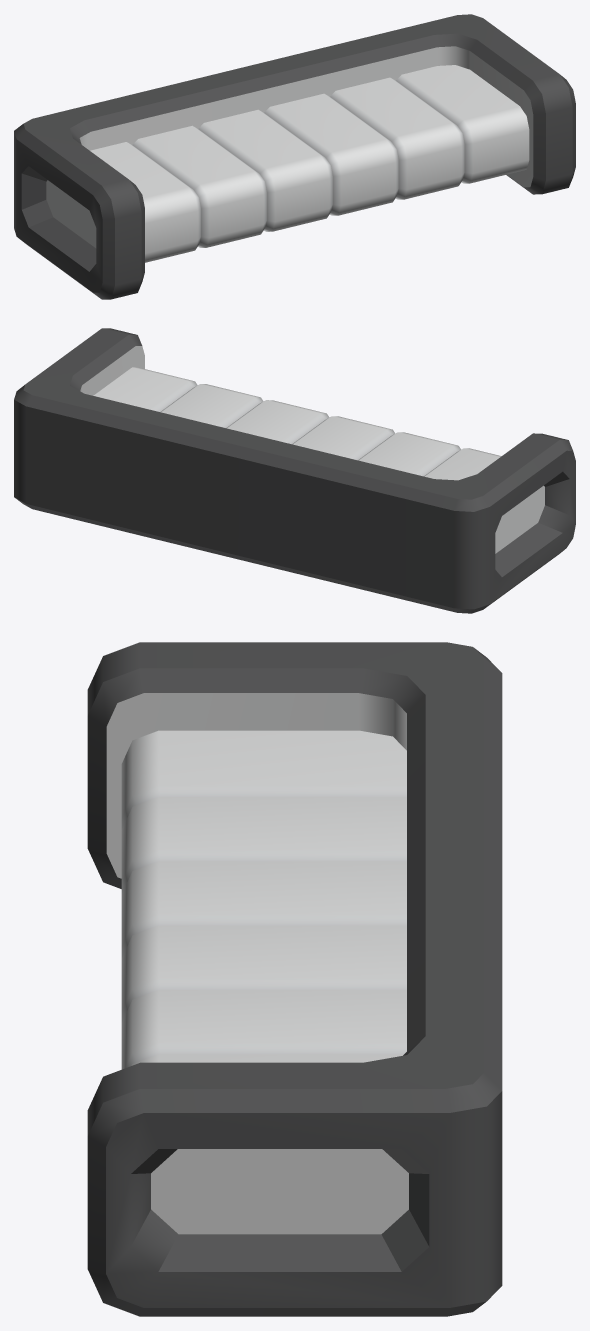
The model's file is Sofa_007.fbx.
The picture shows the model from 3 angles, top to bottom: view 1: azimuth 30°, elevation 25°; view 2: azimuth 150°, elevation 25°; view 3: azimuth 270°, elevation 25°; orthographic projection. The views are drawn at different scales.
Visible parts, largest first — view 1: Sofa_007; view 2: Sofa_007; view 3: Sofa_007.
Part boxes in pixels (box(x1,y1,x2,y2)): Sofa_007: box(14, 14, 575, 299); Sofa_007: box(14, 328, 575, 613); Sofa_007: box(87, 642, 502, 1316).
Bounding box in the file's own units: 225 × 85.46 × 51.87.
